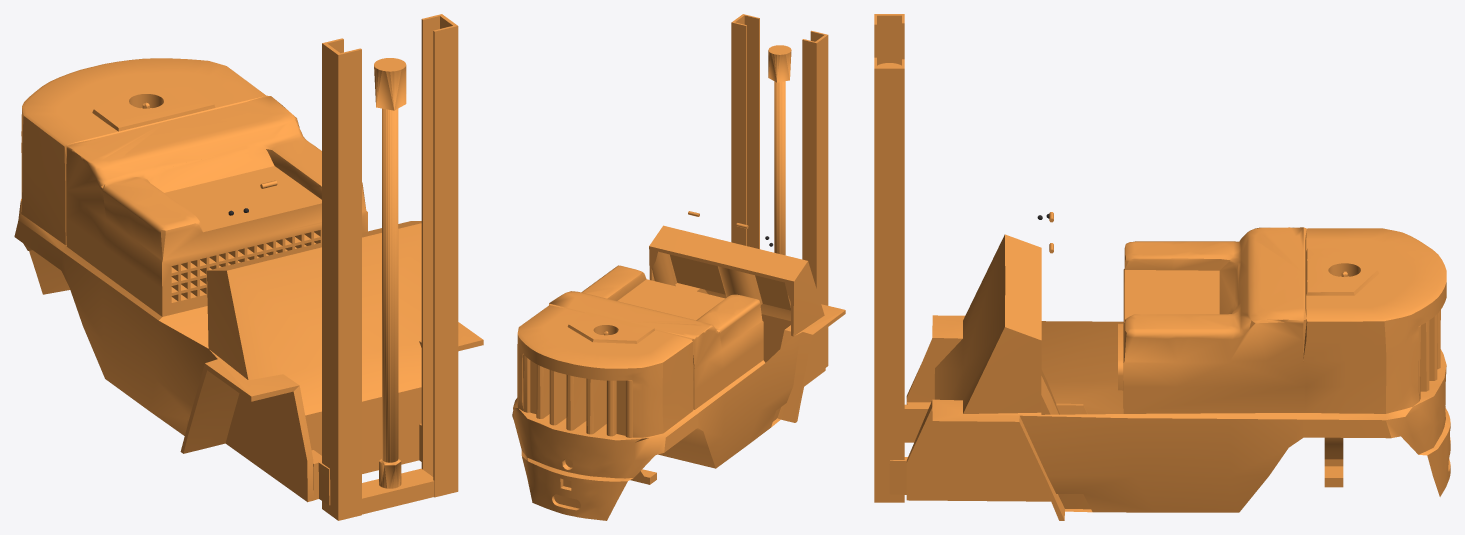
Rendered from grua2.obj.
3 views of the same model, side by side, from view 1: azimuth 30°, elevation 25°; view 2: azimuth 150°, elevation 25°; view 3: azimuth 270°, elevation 25° (orthographic). The views are drawn at different scales.
Visible parts, largest first — view 1: ELT_BODY, ELT_ELV2; view 2: ELT_BODY, ELT_ELV2; view 3: ELT_BODY, ELT_ELV2.
Part boxes in pixels (x1,y1,x2,y2): ELT_BODY: (14,58,483,505); ELT_ELV2: (322,14,458,520); ELT_BODY: (512,225,845,520); ELT_ELV2: (731,14,828,367); ELT_BODY: (889,227,1450,520); ELT_ELV2: (874,14,904,502).
Size of the model in its own units: 2.22 by 4.26 by 5.12.
